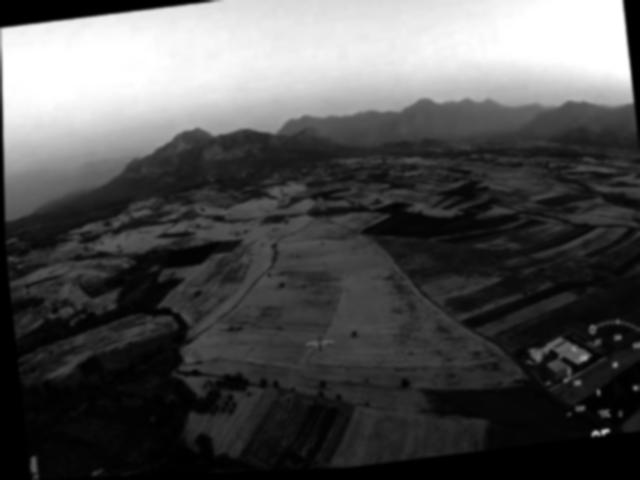hedef: (296, 328, 340, 363)
